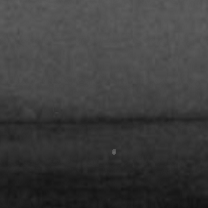Target: (111, 148, 117, 155)
